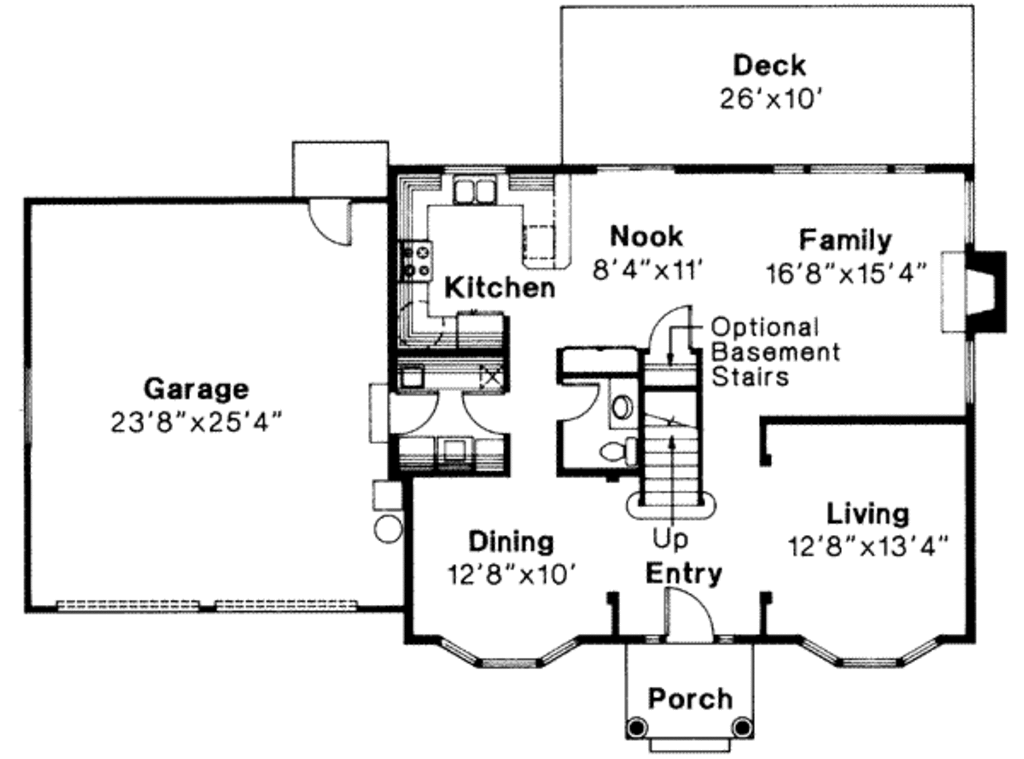door: (658, 583, 718, 641), (385, 387, 444, 438), (646, 304, 698, 354), (306, 195, 354, 247), (459, 387, 511, 435), (556, 381, 601, 425)
large_sink: (598, 434, 639, 469)
small_sink: (602, 376, 641, 431)
stairs: (641, 368, 705, 513)
twin_sink: (449, 170, 503, 208)
window: (437, 637, 576, 675), (799, 640, 937, 670), (772, 163, 927, 179)
